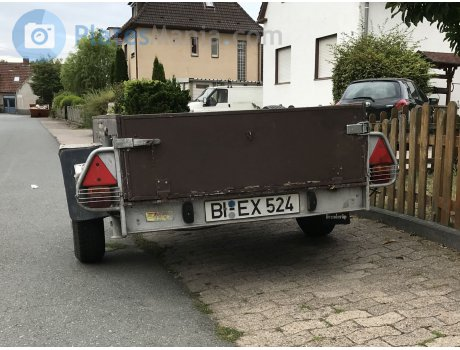License Plates: (206, 192, 302, 214)
